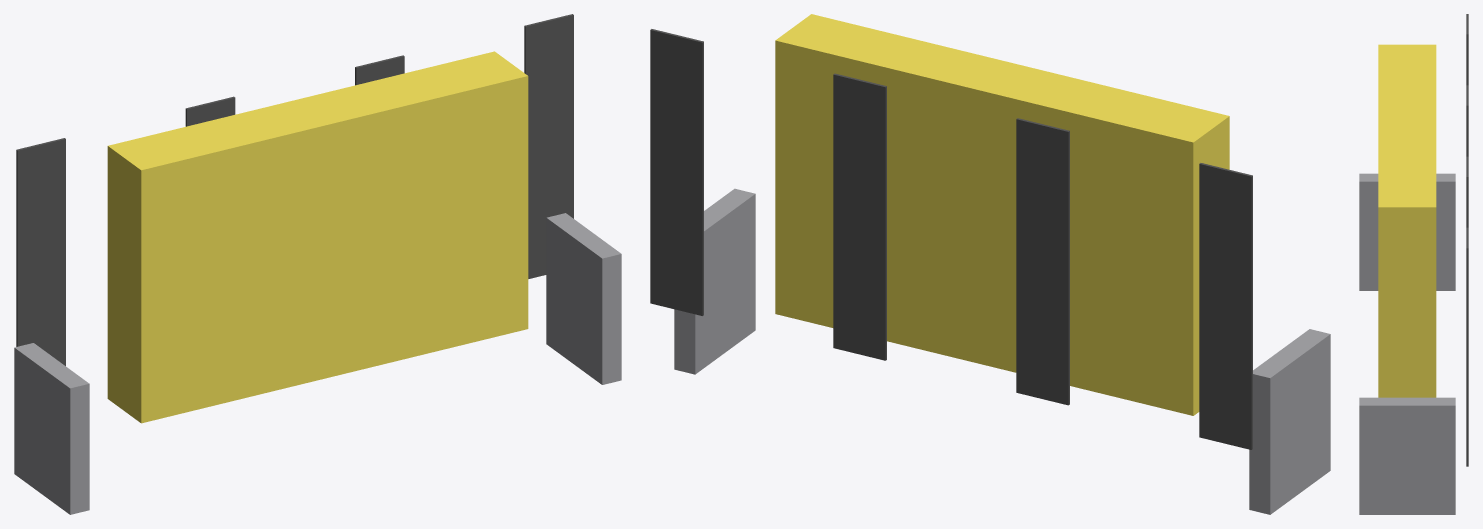
File: mesh_construction_barrier.fbx
3 renders of one model, left to right at view 1: azimuth 30°, elevation 25°; view 2: azimuth 150°, elevation 25°; view 3: azimuth 270°, elevation 25°, orthographic. The views are drawn at different scales.
Visible parts, largest first — view 1: mesh_construction_barrier; view 2: mesh_construction_barrier; view 3: mesh_construction_barrier.
Part boxes in pixels (<box>): mesh_construction_barrier: <box>14,14,621,514</box>; mesh_construction_barrier: <box>650,14,1330,514</box>; mesh_construction_barrier: <box>1359,14,1468,514</box>.
Size of the model in its own units: 1.17 by 0.625 by 0.2275.
